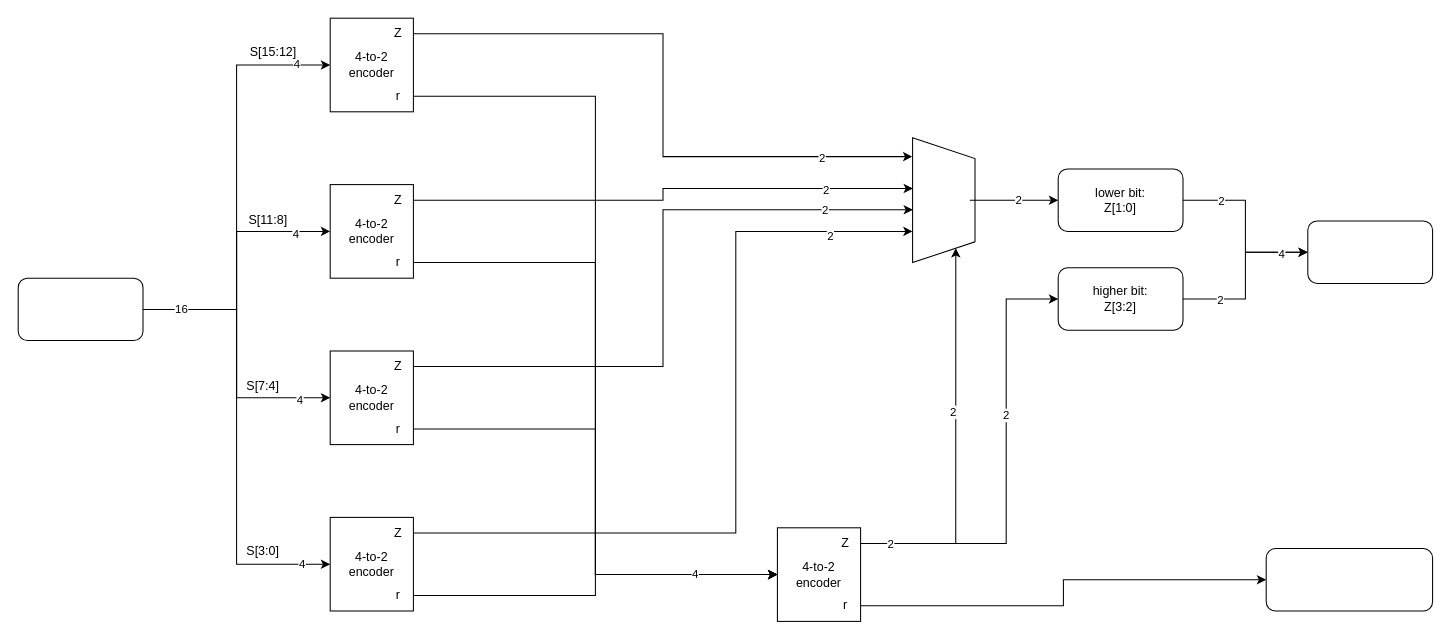
This 1451x640 diagram has some shape labels left out. Here are the shapes that lost their labels. From the top down, the box of each, then its label:
(912, 137, 975, 263): 4-to-1 mux
(1307, 220, 1433, 283): encoded signal: Z[3:0]
(17, 277, 143, 341): Input 16 bit signal: S[15:0]
(1265, 548, 1433, 611): if the input signal is none: r
